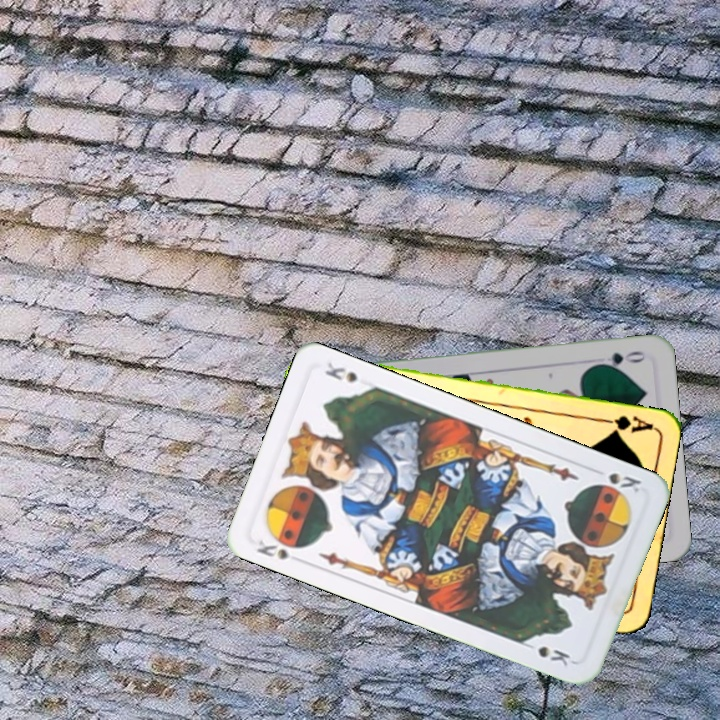GA: (596, 411, 655, 437)
GO: (590, 347, 648, 372)
SK: (252, 536, 306, 566), (604, 468, 645, 497)
